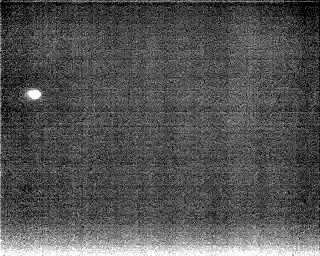AIRPLANE: (25, 85, 44, 102)
